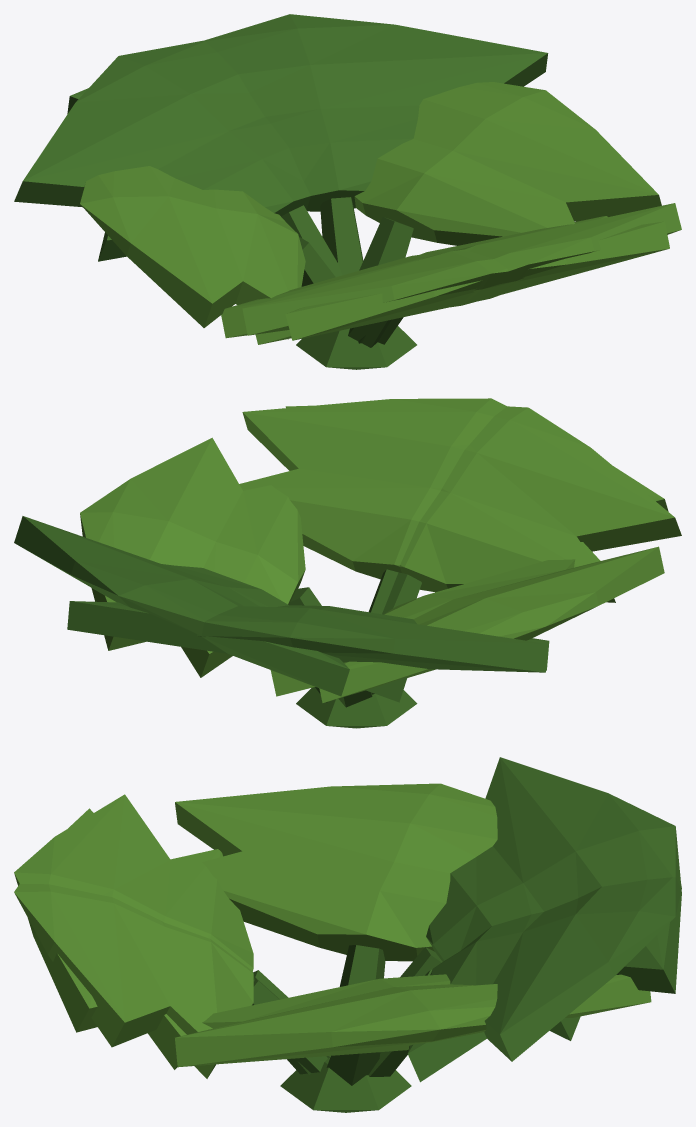
File: squash_1.gltf
The picture shows the model from 3 angles, top to bottom: view 1: azimuth 30°, elevation 25°; view 2: azimuth 150°, elevation 25°; view 3: azimuth 270°, elevation 25°; orthographic projection. The views are drawn at different scales.
Parts seen in each view (by area): view 1: squash_1; view 2: squash_1; view 3: squash_1.
Part boxes in pixels (x1,y1,x2,y2): squash_1: (14,14,681,369); squash_1: (14,398,681,728); squash_1: (14,757,681,1112).
Bounding box in the file's own units: 0.3604 × 0.1448 × 0.3623.
